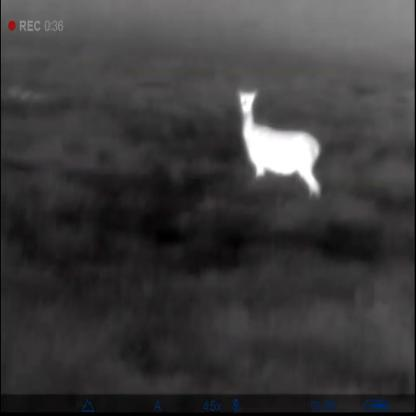rehkitze: (230, 85, 327, 200)
